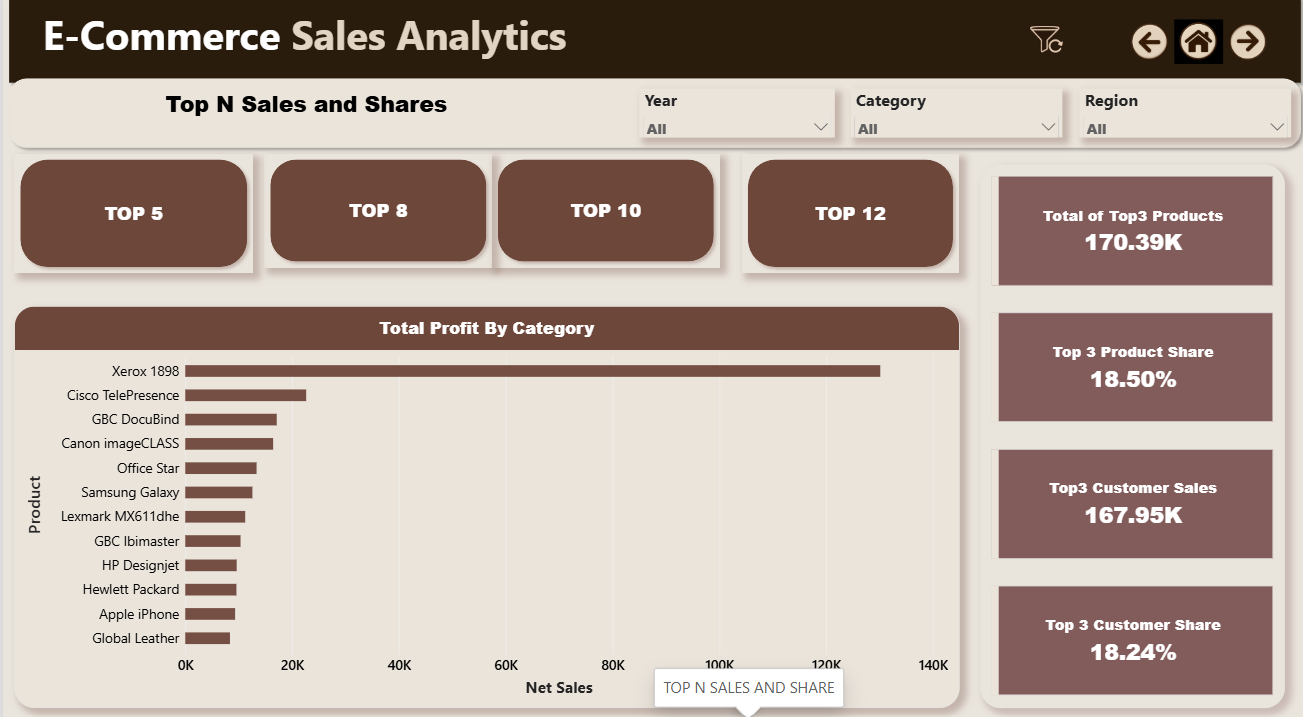

Layout of this report page (visuals, bound fields, positions):
{"tool":"powerbi","page":{"name":"TOP N SALES AND SHARE ","canvas":[1920,1080],"ordinal":4},"visuals":[{"type":"shape","box":[0,0,1920,144],"z":0},{"type":"textbox","box":[0,24,888,120],"z":1000},{"type":"shape","box":[0,120,1920,120],"z":2000},{"type":"slicer","fields":{"Values":["Region_Data.Region"]},"box":[1584,144,312,72],"z":3000},{"type":"slicer","fields":{"Values":["Calender.Year"]},"box":[936,144,288,72],"z":4000},{"type":"slicer","fields":{"Values":["Product_Data.Category"]},"box":[1248,144,312,72],"z":5000},{"type":"textbox","box":[240,144,504,72],"z":6000},{"type":"cardVisual","title":"Moving Average Sales by Day","fields":{"Data":["All_Measures.TotalofTop3Products","All_Measures.Top 3 Share","All_Measures.Top3Customersales","All_Measures.Top 3 Customer Share"]},"box":[1440,256,448,800],"z":7000},{"type":"clusteredBarChart","title":"Total Profit By Category","fields":{"Category":["Product_Data.Product"],"Y":["All_Measures.Net Sales"]},"box":[16,464,1392,592],"z":8000},{"type":"actionButton","box":[16,240,352,176],"z":9000},{"type":"actionButton","box":[384,240,336,168],"z":10000},{"type":"actionButton","box":[720,240,336,168],"z":11000},{"type":"actionButton","box":[1088,240,320,176],"z":12000},{"type":"image","box":[1488,32,96,80],"z":13000},{"type":"image","box":[1796.4,38,72,72],"z":14000},{"type":"image","box":[1652.4,38,72,72],"z":15000},{"type":"image","box":[1724.4,38,72,72],"z":16000}]}

Visuals, with their boxes in screenshot pixels (x1, y1, x2, y2), scaled from the page's 1920x1080 canvas onto the 1303x717 screenshot:
shape: bbox=[0, 0, 1302, 96]
textbox: bbox=[0, 16, 603, 96]
shape: bbox=[0, 80, 1302, 159]
slicer - Region_Data.Region: bbox=[1075, 96, 1287, 143]
slicer - Calender.Year: bbox=[635, 96, 831, 143]
slicer - Product_Data.Category: bbox=[847, 96, 1059, 143]
textbox: bbox=[163, 96, 505, 143]
"Moving Average Sales by Day" cardVisual: bbox=[977, 170, 1281, 701]
"Total Profit By Category" clusteredBarChart: bbox=[11, 308, 956, 701]
actionButton: bbox=[11, 159, 250, 276]
actionButton: bbox=[261, 159, 489, 271]
actionButton: bbox=[489, 159, 717, 271]
actionButton: bbox=[738, 159, 956, 276]
image: bbox=[1010, 21, 1075, 74]
image: bbox=[1219, 25, 1268, 73]
image: bbox=[1121, 25, 1170, 73]
image: bbox=[1170, 25, 1219, 73]
